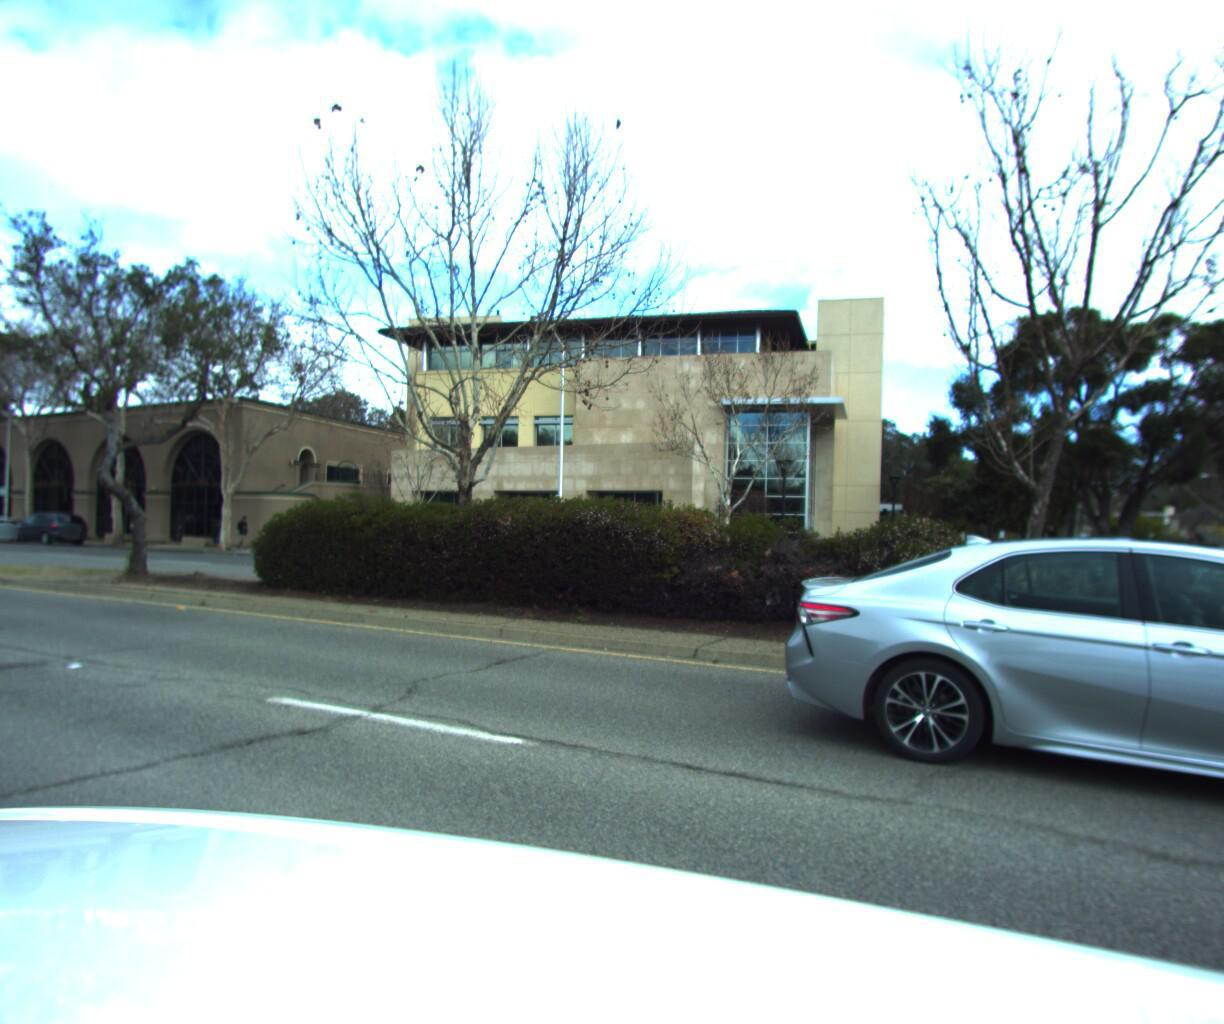car: (740, 522, 1224, 900), (6, 506, 91, 543), (0, 511, 28, 539)
